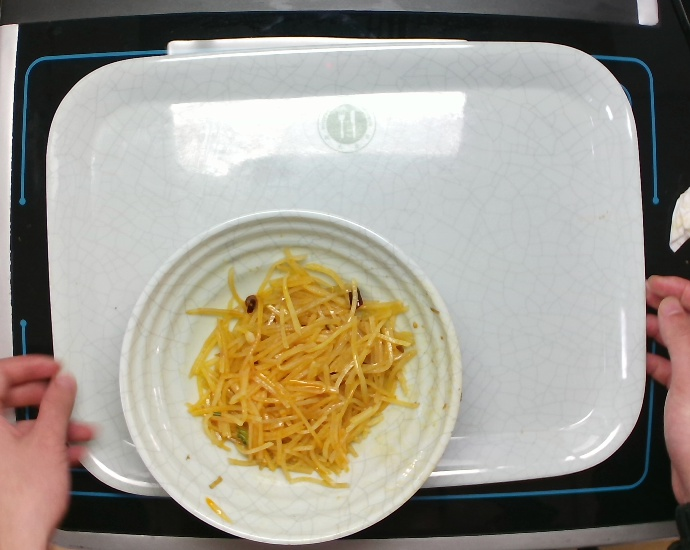JYsf-Da_Tang_Wan: (115, 204, 461, 550)
